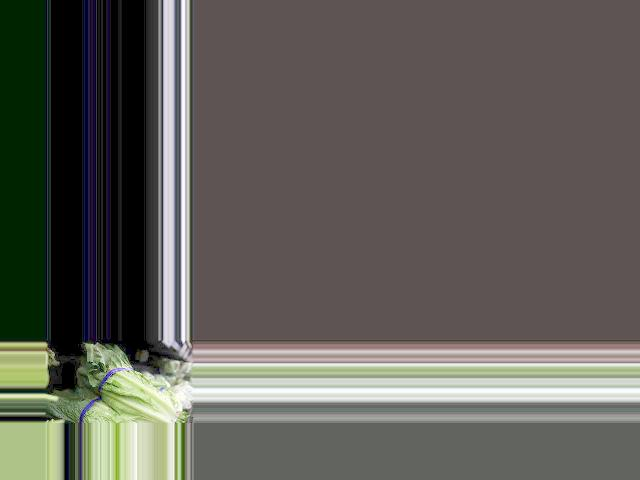lettuce: (79, 348, 171, 423)
